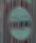No overtake: (4, 3, 34, 42)
